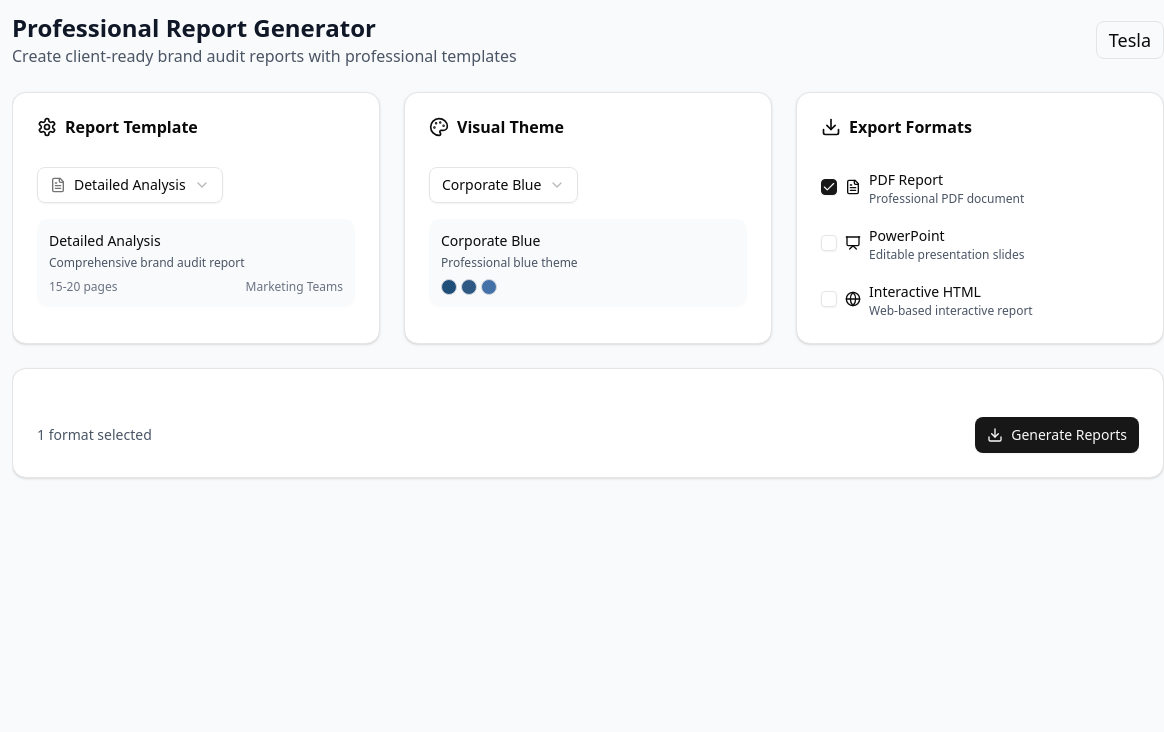
Test: ReportGenerator › shows progress during generation
Note: Start generation
Step 1. Click the button "Generate Reports" → click(1057, 435), box [975, 417, 1139, 453]
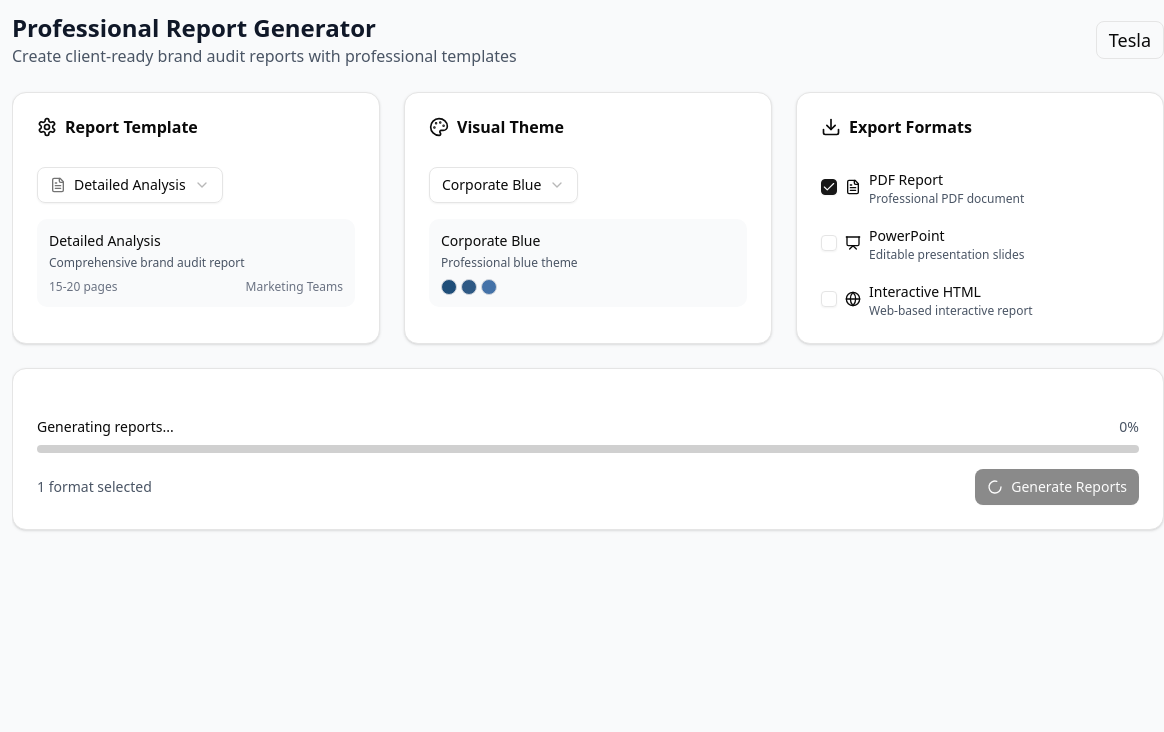
expect the text "Generating reports..." is shown: met, box [37, 417, 174, 437]
expect the button "Generate Reports" is disabled: met, box [975, 469, 1139, 505]
